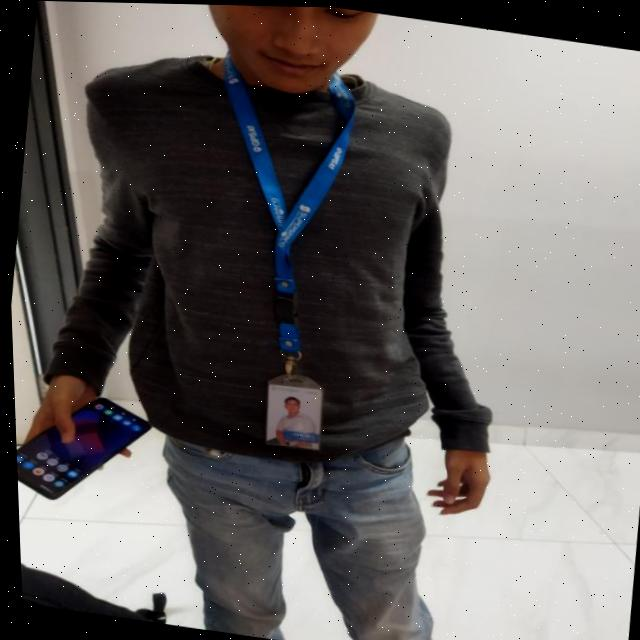id_card: (164, 41, 398, 470)
